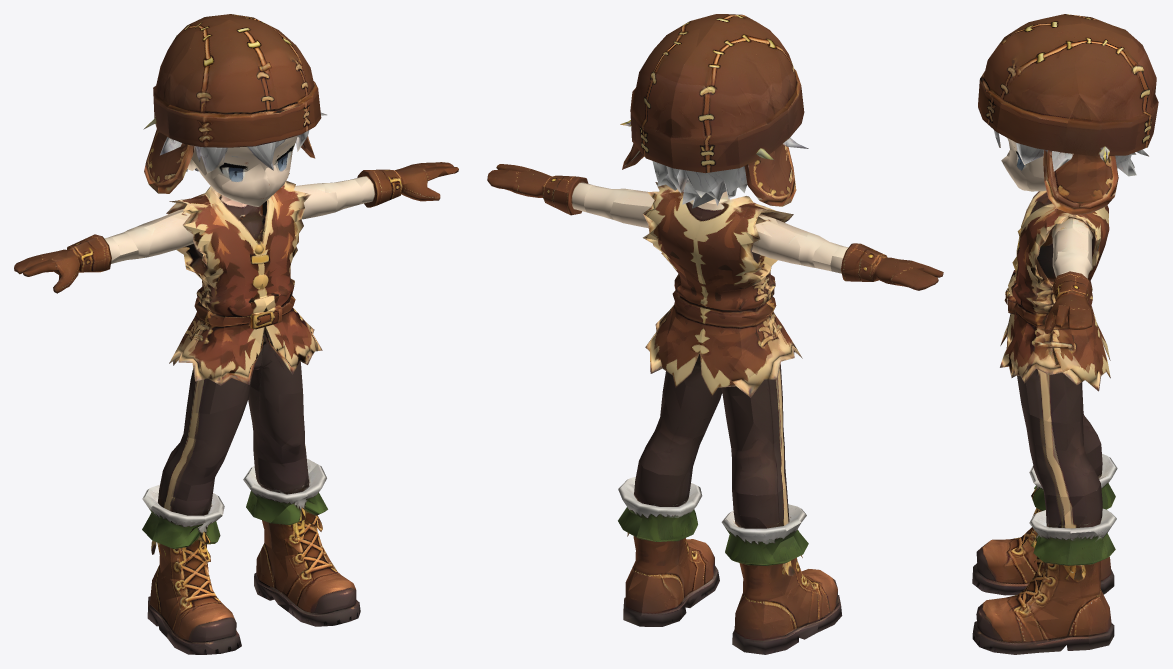
File: hide_meshy.glb
3 renders of one model, left to right at view 1: azimuth 30°, elevation 25°; view 2: azimuth 150°, elevation 25°; view 3: azimuth 270°, elevation 25°, orthographic. The views are drawn at different scales.
Bounding box in the file's own units: 1.57 × 2 × 0.5754.
Materials: 1 (1 with a texture image).
